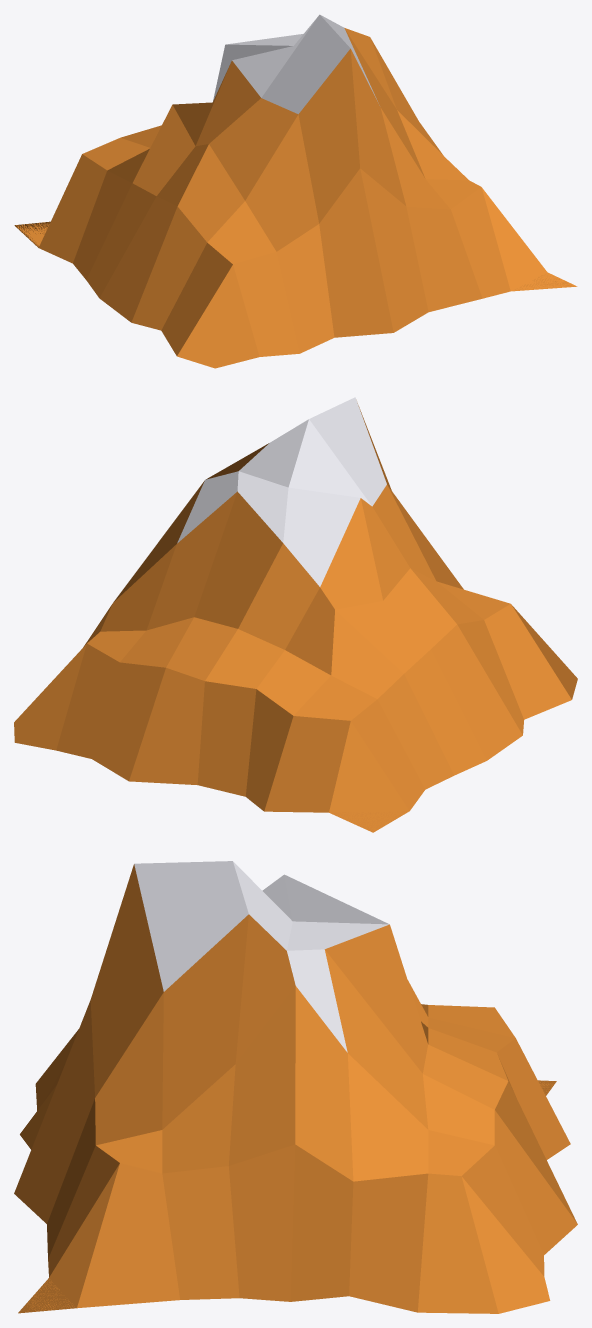
File: snow_mountain.glb
The picture shows the model from 3 angles, top to bottom: view 1: azimuth 30°, elevation 25°; view 2: azimuth 150°, elevation 25°; view 3: azimuth 270°, elevation 25°; orthographic projection. The views are drawn at different scales.
Visible parts, largest first — view 1: SnowMountain; view 2: SnowMountain; view 3: SnowMountain.
Boxes of the visible parts, box(x1,y1,x2,y2) form: SnowMountain: box(14, 14, 577, 368); SnowMountain: box(14, 397, 577, 832); SnowMountain: box(14, 861, 577, 1313).
Bounding box in the file's own units: 3.96 × 2.59 × 3.92.
1 material, 1 textured.
